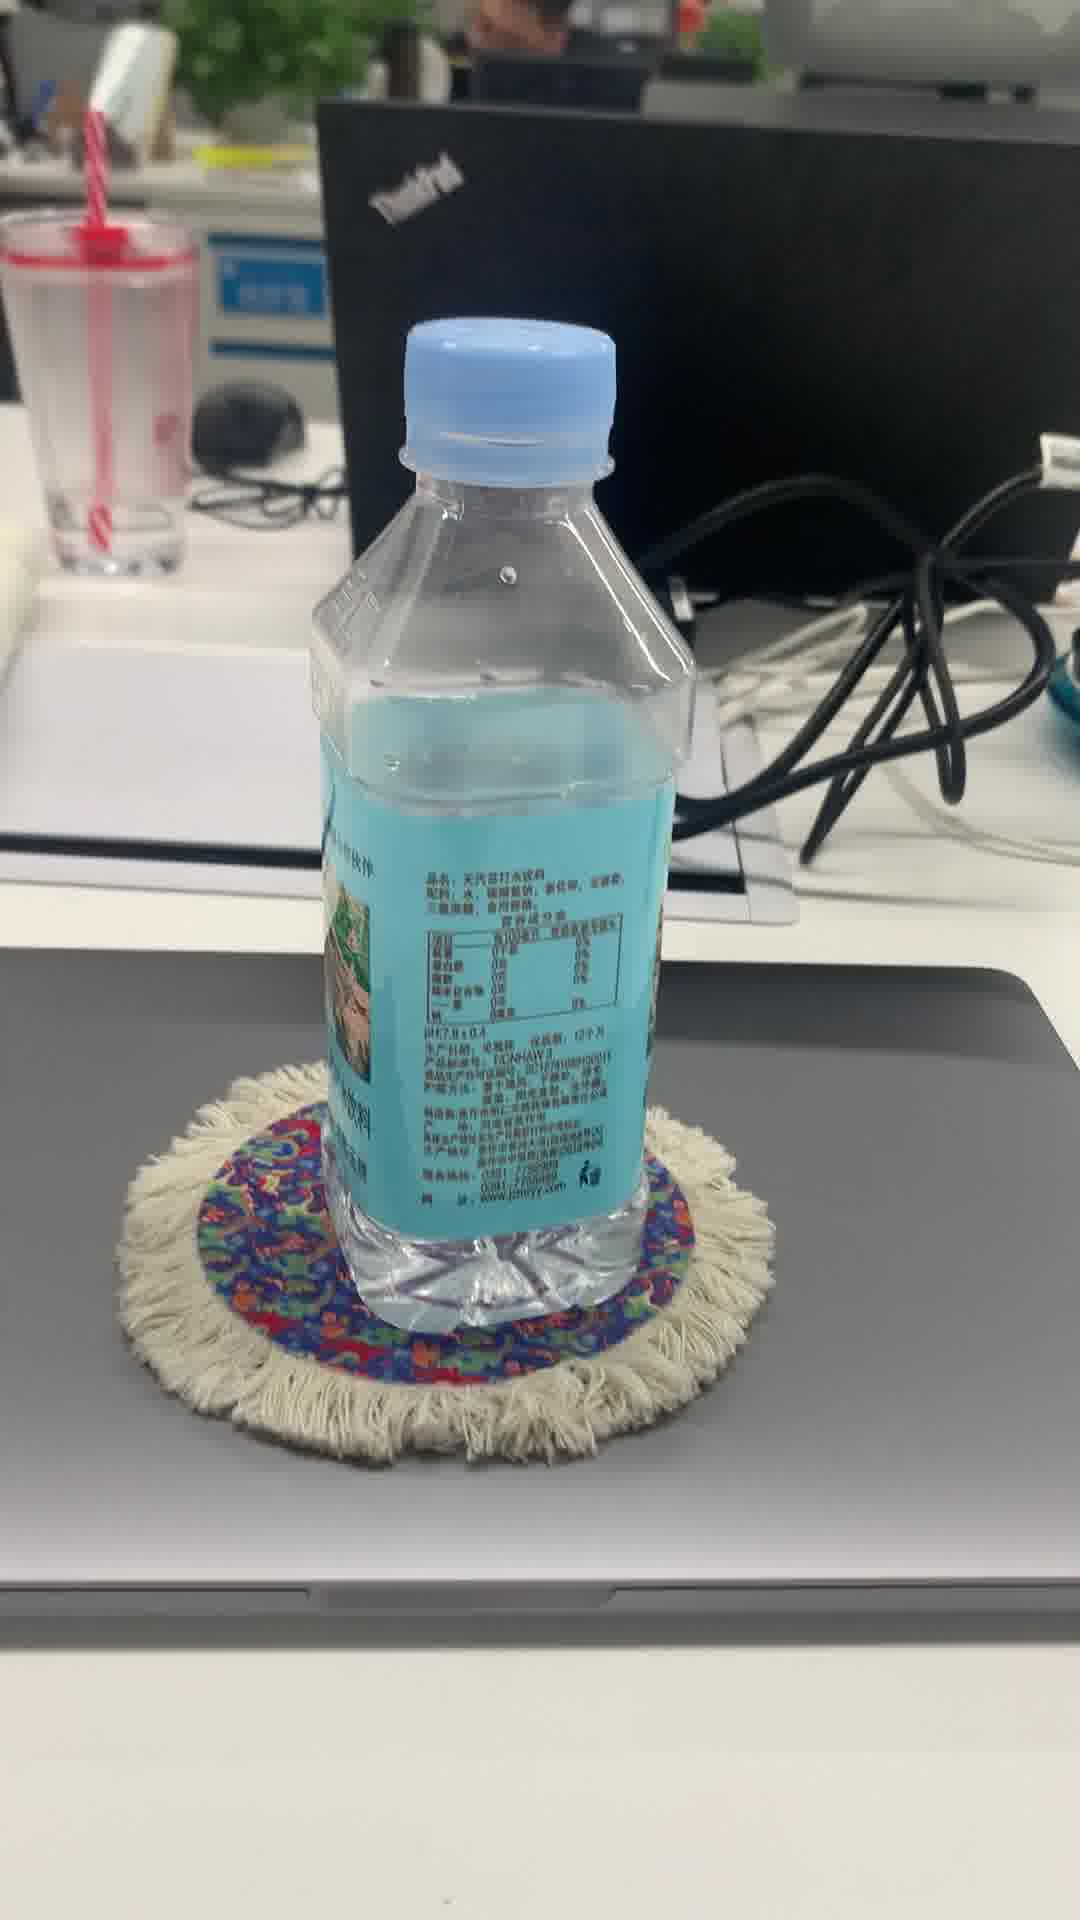水瓶: (295, 307, 671, 1345)
